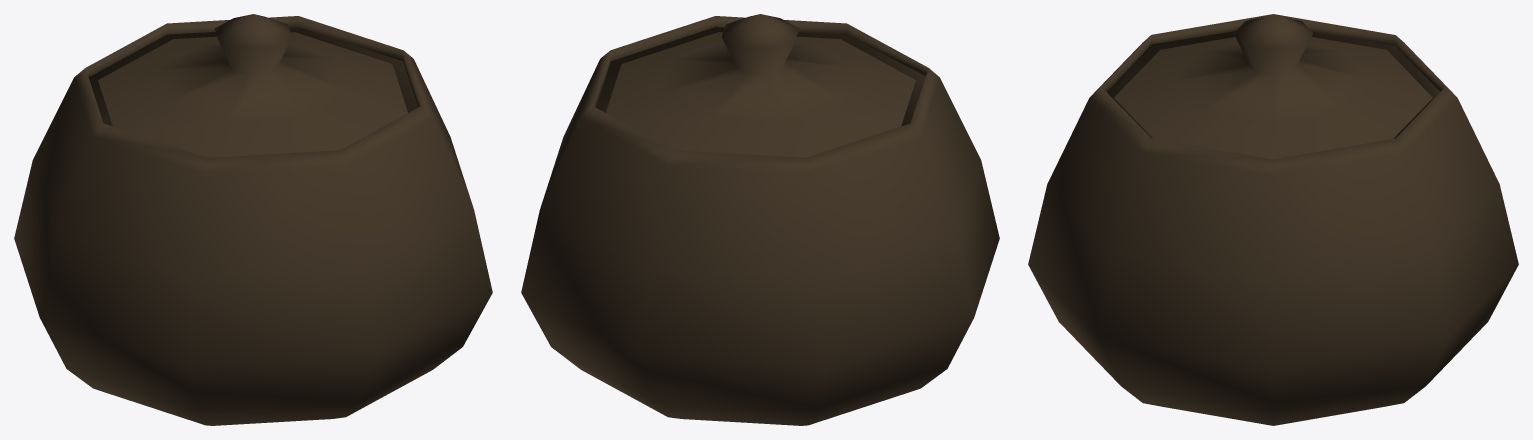
Rendered from HQ_MiniPot.fbx.
3 renders of one model, left to right at view 1: azimuth 30°, elevation 25°; view 2: azimuth 150°, elevation 25°; view 3: azimuth 270°, elevation 25°, orthographic.
Visible parts, largest first — view 1: HQ_MiniPot; view 2: HQ_MiniPot; view 3: HQ_MiniPot.
Boxes of the visible parts, x1=… form: HQ_MiniPot: x1=14, y1=14, x2=492, y2=425; HQ_MiniPot: x1=521, y1=14, x2=999, y2=425; HQ_MiniPot: x1=1028, y1=14, x2=1518, y2=425.
Bounding box in the file's own units: 1.21 × 0.9387 × 1.21.
